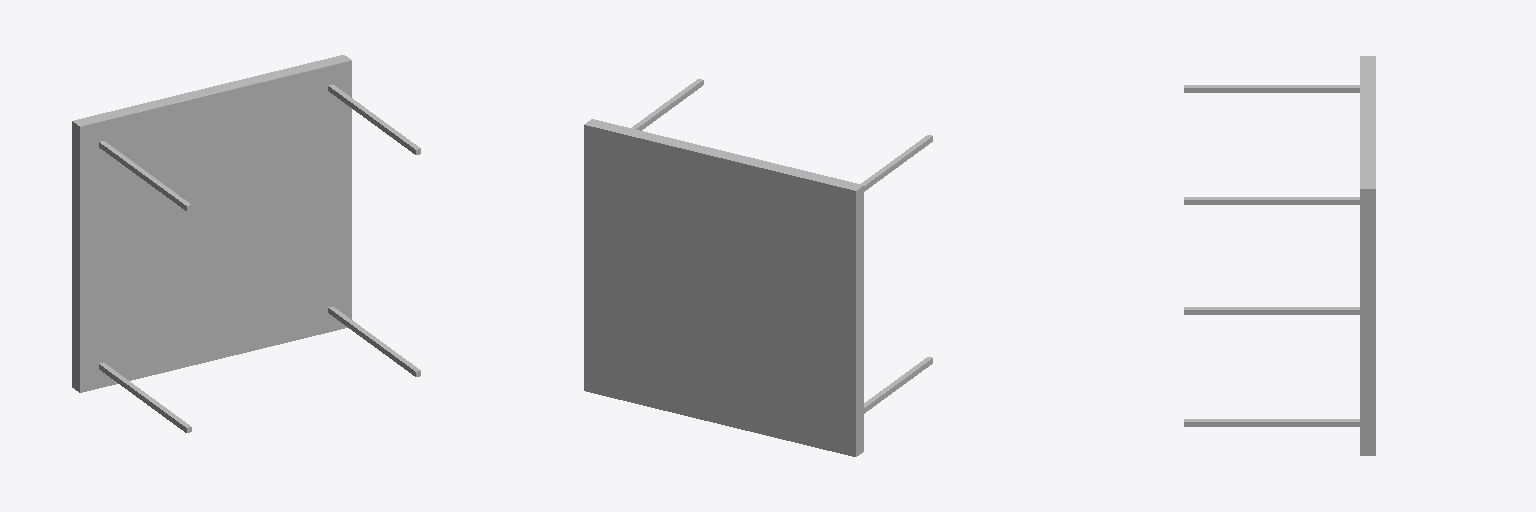
Rendered from random_table86.obj.
3 views of the same model, side by side, from view 1: azimuth 30°, elevation 25°; view 2: azimuth 150°, elevation 25°; view 3: azimuth 270°, elevation 25° (orthographic).
Parts seen in each view (by area): view 1: Table_Cube.1495, TableLeg0_Cube.1496, TableLeg2_Cube.1498, TableLeg3_Cube.1499, TableLeg1_Cube.1497; view 2: Table_Cube.1495, TableLeg1_Cube.1497, TableLeg3_Cube.1499, TableLeg0_Cube.1496; view 3: Table_Cube.1495, TableLeg0_Cube.1496, TableLeg1_Cube.1497, TableLeg2_Cube.1498, TableLeg3_Cube.1499.
Part boxes in pixels (bbox=[...]): Table_Cube.1495: bbox=[72, 55, 351, 392]; TableLeg0_Cube.1496: bbox=[328, 84, 420, 154]; TableLeg2_Cube.1498: bbox=[328, 306, 420, 376]; TableLeg3_Cube.1499: bbox=[99, 362, 191, 432]; TableLeg1_Cube.1497: bbox=[99, 141, 191, 210]; Table_Cube.1495: bbox=[584, 119, 863, 456]; TableLeg1_Cube.1497: bbox=[861, 135, 932, 191]; TableLeg3_Cube.1499: bbox=[864, 357, 932, 413]; TableLeg0_Cube.1496: bbox=[632, 79, 703, 130]; Table_Cube.1495: bbox=[1360, 56, 1375, 455]; TableLeg0_Cube.1496: bbox=[1184, 197, 1359, 204]; TableLeg1_Cube.1497: bbox=[1184, 85, 1359, 92]; TableLeg2_Cube.1498: bbox=[1184, 419, 1359, 426]; TableLeg3_Cube.1499: bbox=[1184, 307, 1359, 314].
Bounding box in the file's own units: 8.25 × 7.72 × 5.03.